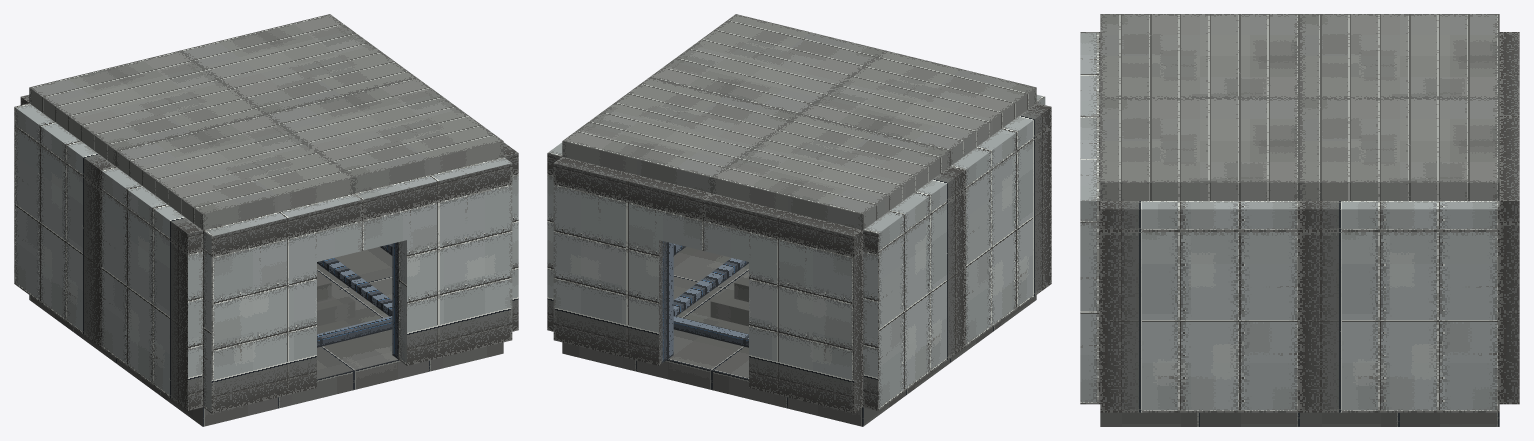
File: shell_treasure_vault.glb
3 views of the same model, side by side, from view 1: azimuth 30°, elevation 25°; view 2: azimuth 150°, elevation 25°; view 3: azimuth 270°, elevation 25° (orthographic). The views are drawn at different scales.
Visible parts, largest first — view 1: shell_treasure_vault; view 2: shell_treasure_vault; view 3: shell_treasure_vault.
Boxes of the visible parts, bbox=[...] form: shell_treasure_vault: bbox=[14, 14, 518, 426]; shell_treasure_vault: bbox=[547, 14, 1051, 426]; shell_treasure_vault: bbox=[1080, 14, 1519, 426].
Size of the model in its own units: 8.8 by 5.4 by 8.8.
Materials: 30 (30 with a texture image).
